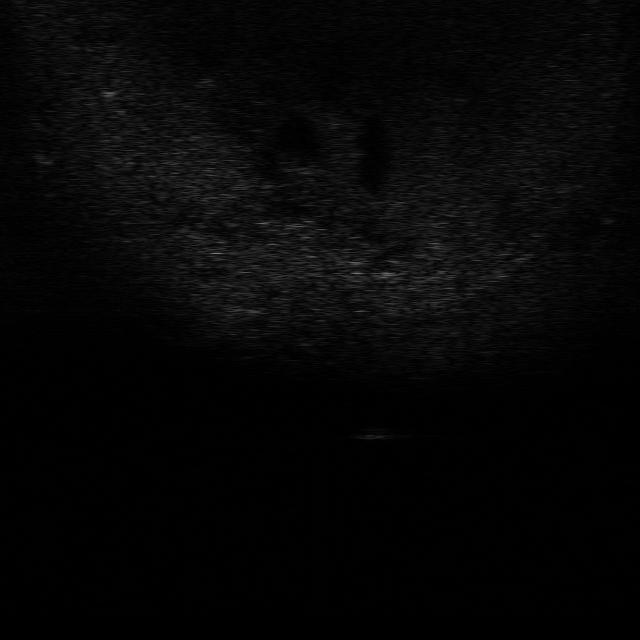cube: (351, 424, 394, 441)
